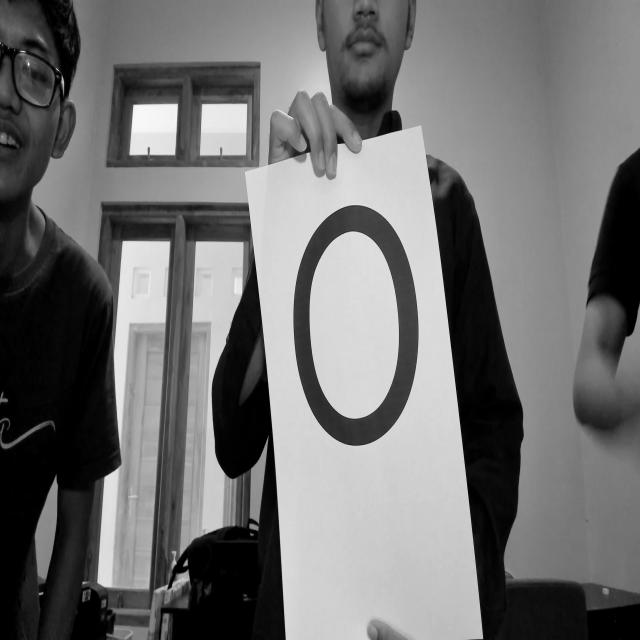o: (278, 182, 444, 472)
